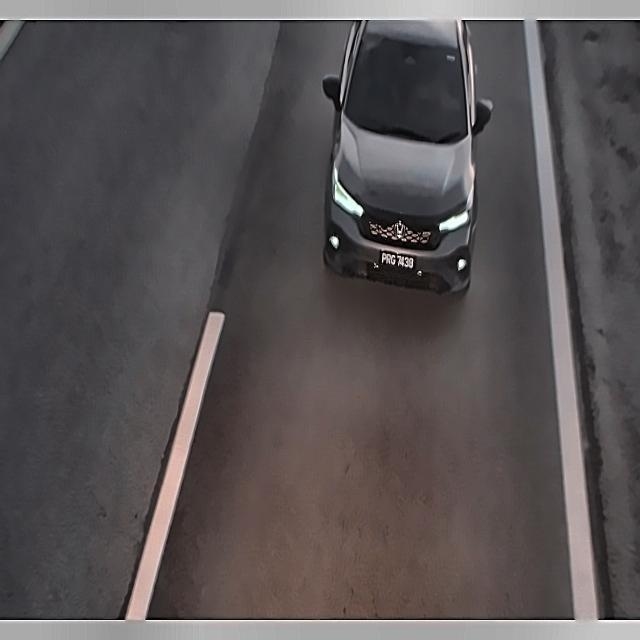car: (376, 244, 421, 281)
